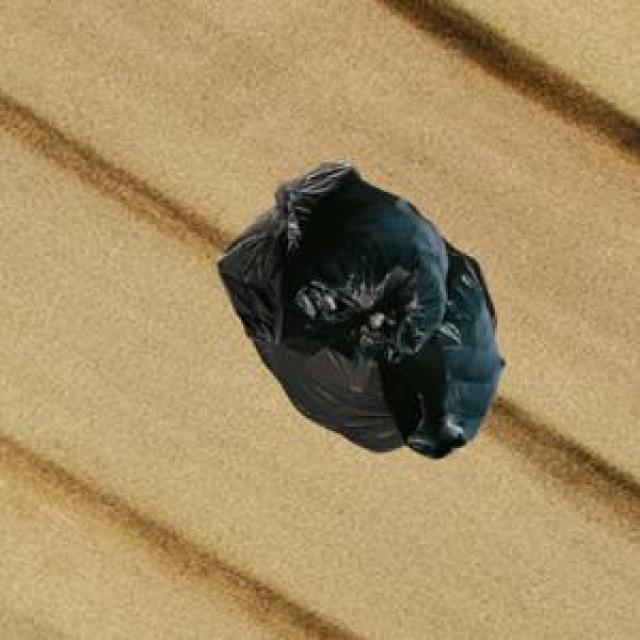Trashbag: (218, 158, 515, 454)
